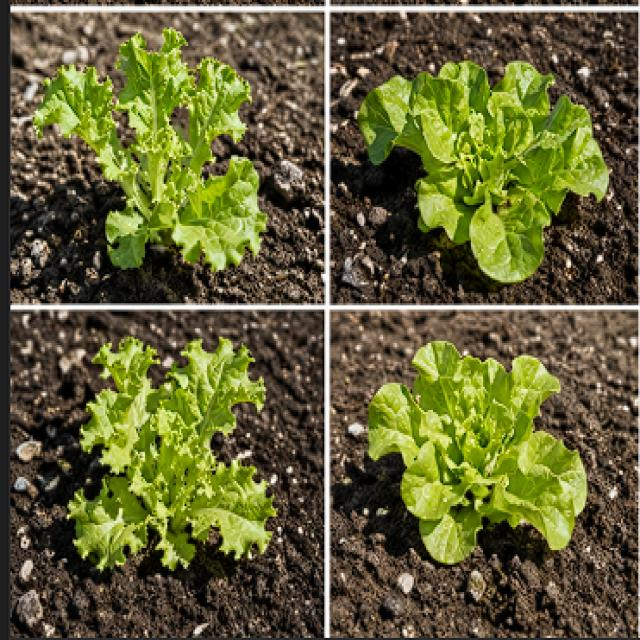inmadura: (33, 27, 266, 268), (357, 61, 607, 280), (67, 337, 276, 569), (369, 341, 585, 561)
